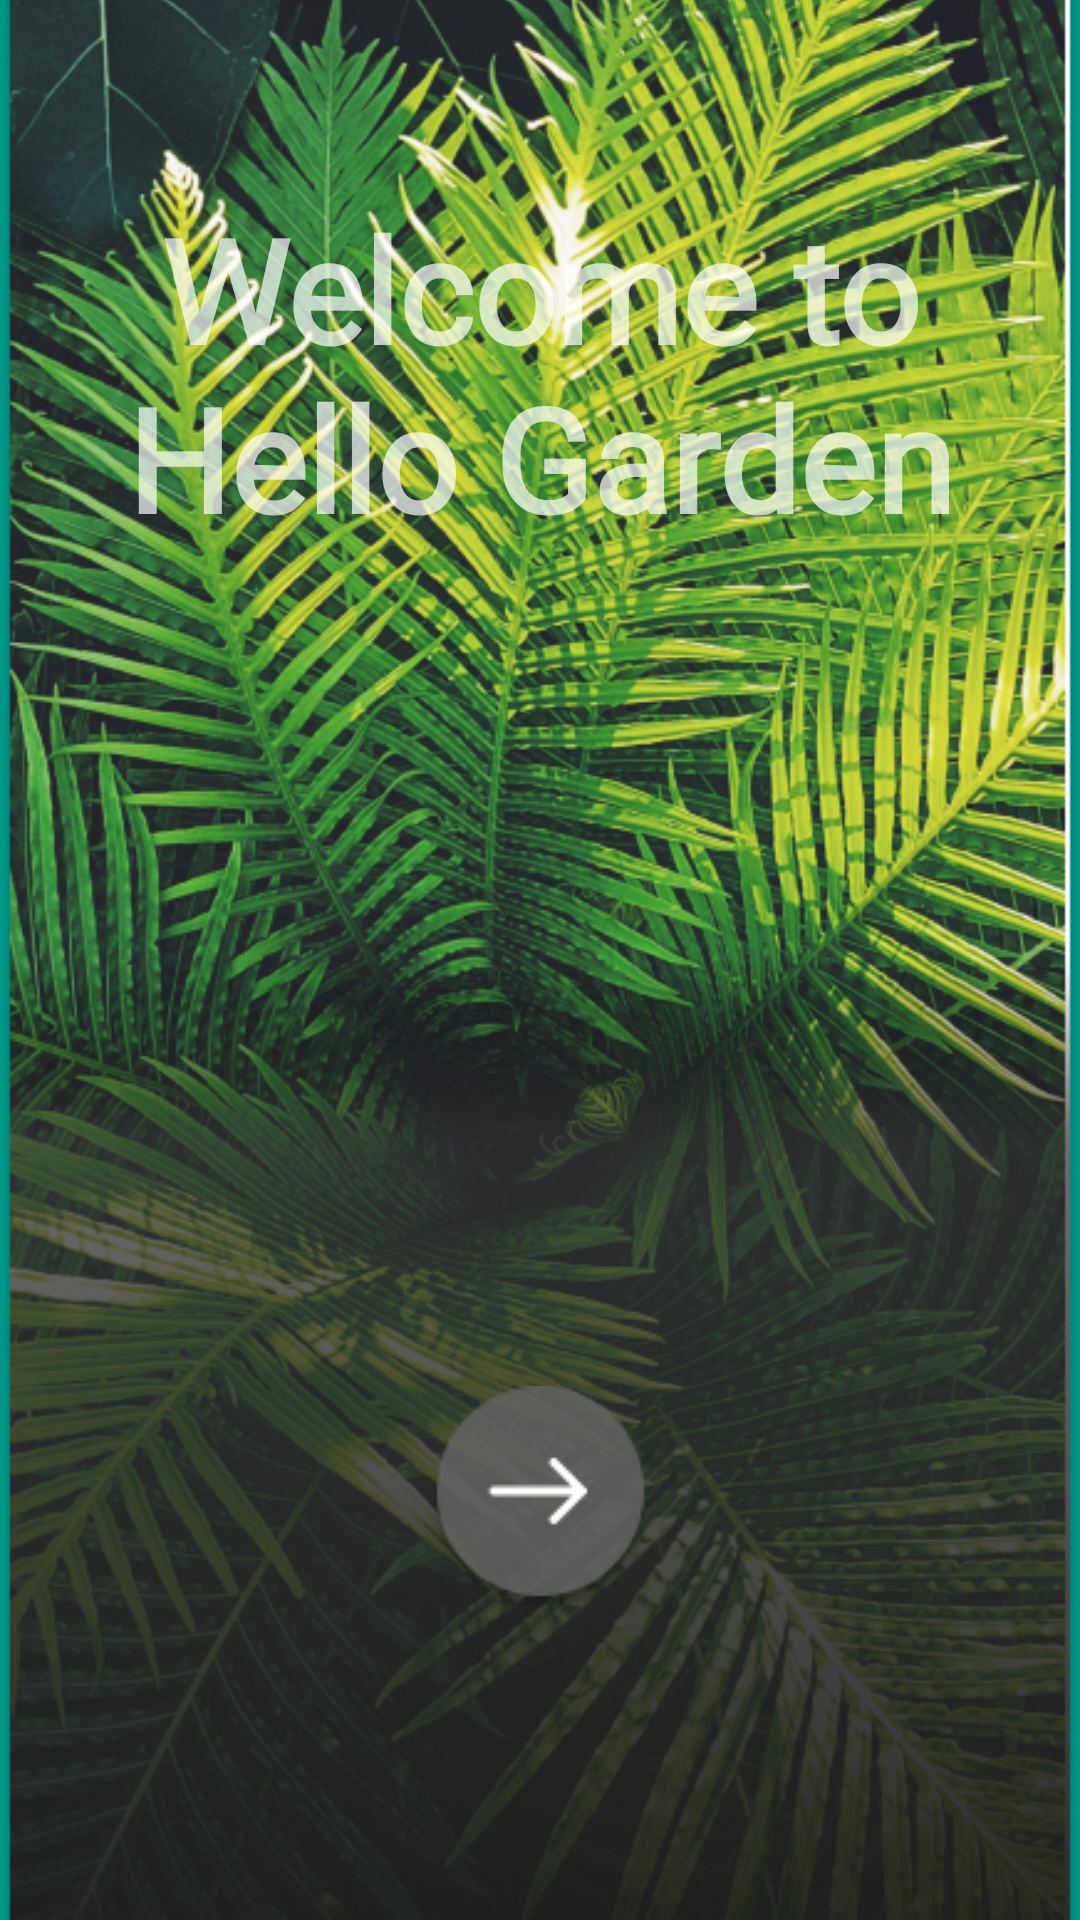

Icon click points for this 1080*1920 phone screenshot, format (x,y):
arrow: (540,1503)
